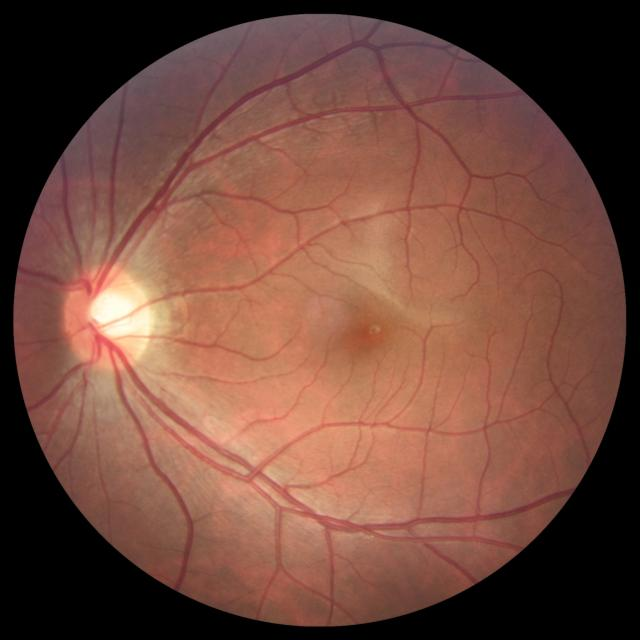OC: (84, 288, 138, 342)
OD: (63, 264, 155, 370)
